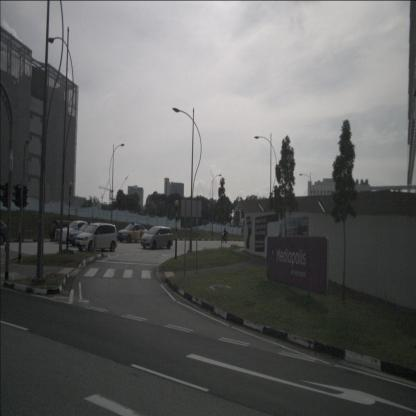vehicle-car: (76, 222, 118, 252), (55, 220, 97, 245), (69, 223, 104, 247), (140, 226, 174, 250), (117, 222, 148, 243), (49, 220, 77, 242), (0, 219, 8, 245)
vehicle-motorcycle: (221, 227, 228, 243)
